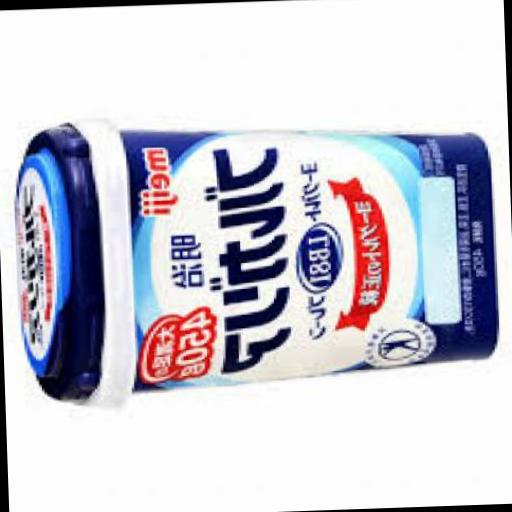plastic: (6, 102, 498, 408)
